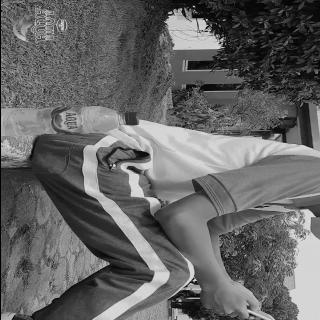plastic_bottles: (0, 105, 140, 137)
